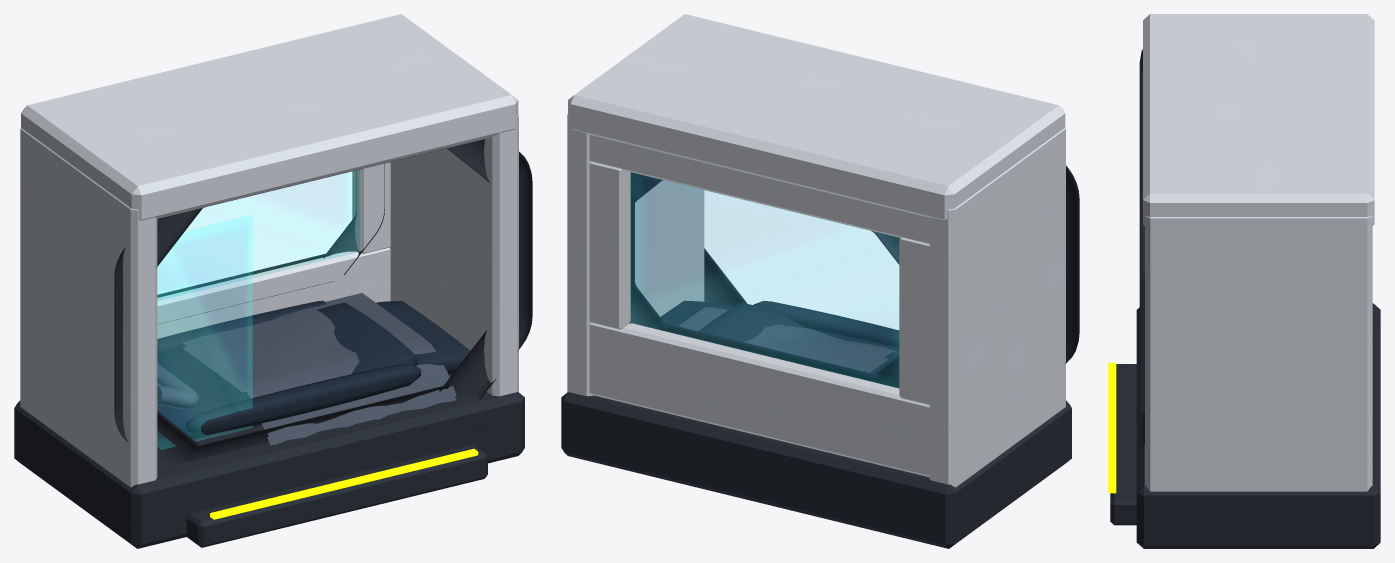
File: bunk_r2_02.glb
3 renders of one model, left to right at view 1: azimuth 30°, elevation 25°; view 2: azimuth 150°, elevation 25°; view 3: azimuth 270°, elevation 25°, orthographic.
Parts seen in each view (by area): view 1: HexPod_AerospaceWhiteLiner, HexPod_CarbonSlateHexCollar, HexPod_TranslucentViewportAndPartition, HexPod_SlateBolsterAndCoverlet, HexPod_OrbitalNavyFlightCouch, HexPod_LowerAmberStepCove; view 2: HexPod_AerospaceWhiteLiner, HexPod_CarbonSlateHexCollar, HexPod_TranslucentViewportAndPartition, HexPod_OrbitalNavyFlightCouch, HexPod_SlateBolsterAndCoverlet; view 3: HexPod_AerospaceWhiteLiner, HexPod_CarbonSlateHexCollar, HexPod_LowerAmberStepCove.
Boxes of the visible parts, x1,y1,x2,y2 form: HexPod_AerospaceWhiteLiner: (20, 14, 518, 487); HexPod_CarbonSlateHexCollar: (14, 139, 532, 548); HexPod_TranslucentViewportAndPartition: (157, 170, 358, 449); HexPod_SlateBolsterAndCoverlet: (157, 293, 456, 445); HexPod_OrbitalNavyFlightCouch: (157, 300, 470, 439); HexPod_LowerAmberStepCove: (210, 448, 478, 519); HexPod_AerospaceWhiteLiner: (567, 14, 1065, 487); HexPod_CarbonSlateHexCollar: (561, 165, 1079, 548); HexPod_TranslucentViewportAndPartition: (631, 173, 898, 387); HexPod_OrbitalNavyFlightCouch: (660, 300, 899, 374); HexPod_SlateBolsterAndCoverlet: (678, 307, 898, 372); HexPod_AerospaceWhiteLiner: (1143, 14, 1374, 491); HexPod_CarbonSlateHexCollar: (1110, 49, 1380, 548); HexPod_LowerAmberStepCove: (1108, 362, 1116, 493).
Bounding box in the file's own units: 2.33 × 1.92 × 1.34.
7 materials, 7 textured.
